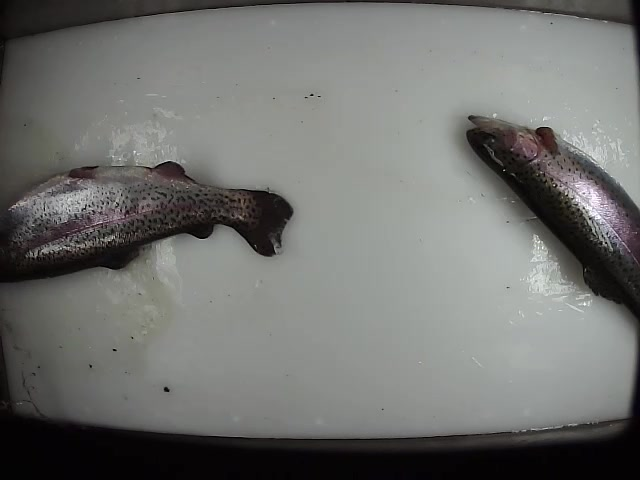fish: (2, 159, 294, 283)
